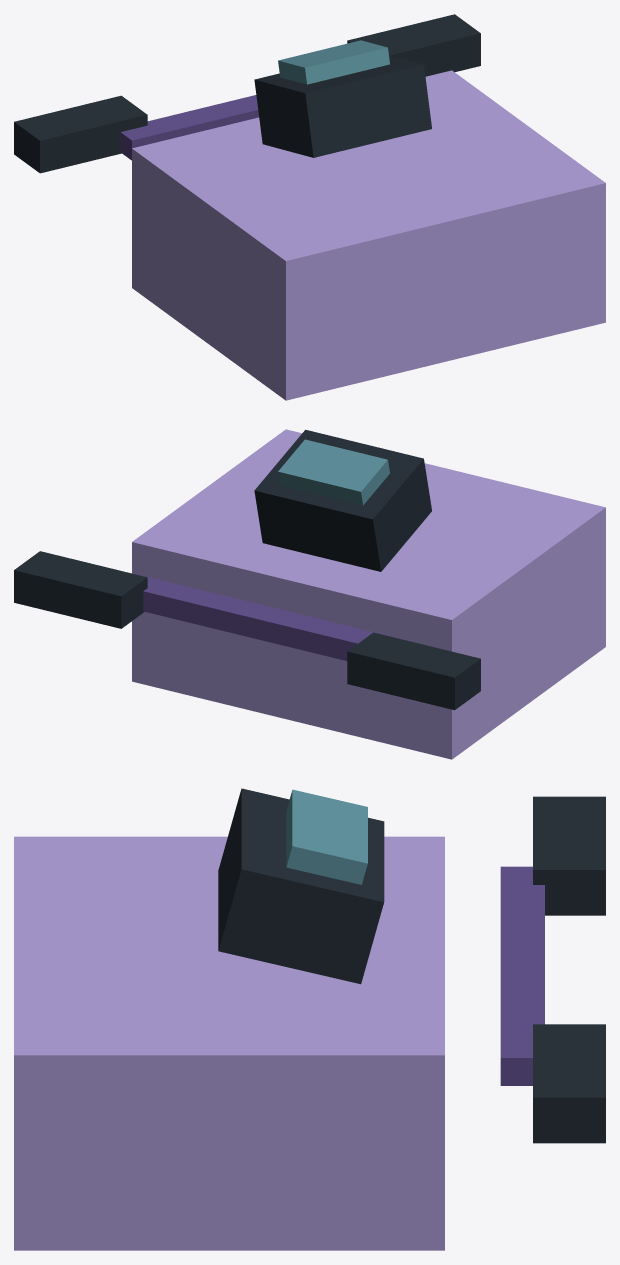
Rendered from yesun.glb.
3 renders of one model, top to bottom at view 1: azimuth 30°, elevation 25°; view 2: azimuth 150°, elevation 25°; view 3: azimuth 270°, elevation 25°, orthographic. The views are drawn at different scales.
Parts seen in each view (by area): view 1: front_cowl, cluster_housing, grip, grip.001, bar, display; view 2: front_cowl, cluster_housing, grip, grip.001, display, bar.001, bar; view 3: front_cowl, cluster_housing, grip.001, grip, display, bar.001, bar.
Boxes of the visible parts, x1,y1,x2,y2 form: front_cowl: [132, 70, 605, 400]; cluster_housing: [254, 55, 431, 157]; grip: [14, 95, 147, 173]; grip.001: [347, 14, 480, 76]; bar: [120, 96, 258, 160]; display: [278, 40, 389, 84]; front_cowl: [132, 429, 605, 759]; cluster_housing: [254, 429, 431, 571]; grip: [347, 632, 480, 710]; grip.001: [14, 551, 147, 628]; display: [278, 439, 389, 505]; bar.001: [132, 573, 276, 640]; bar: [249, 605, 411, 660]; front_cowl: [14, 836, 444, 1250]; cluster_housing: [218, 788, 384, 984]; grip.001: [533, 1024, 605, 1143]; grip: [533, 796, 605, 915]; display: [286, 789, 367, 884]; bar.001: [500, 967, 544, 1085]; bar: [500, 866, 544, 966].
Size of the model in its own units: 0.595 by 0.2982 by 0.4945.
